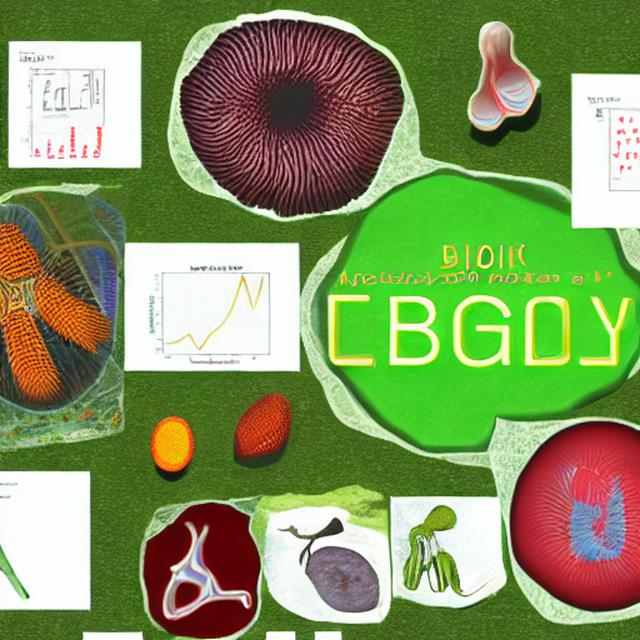Graph: (137, 260, 291, 366), (16, 114, 92, 164)
